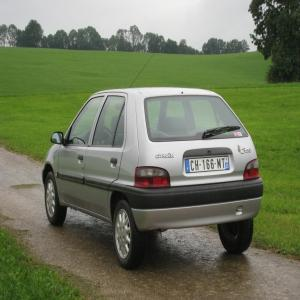Vehicle-registration-plate: (187, 155, 229, 181)
